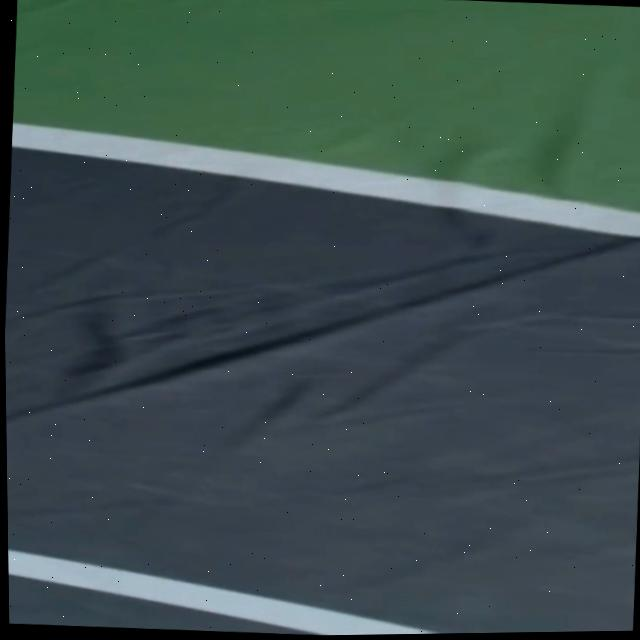center: (8, 551, 435, 635)
right: (11, 124, 640, 237)
